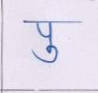u_matra: (31, 45, 61, 63)
